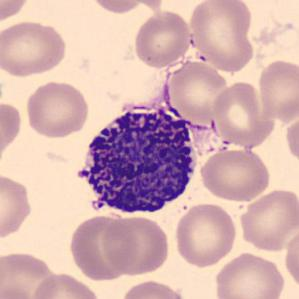Basophil: (70, 94, 206, 222)
RBC: (185, 0, 257, 73), (66, 212, 139, 282), (100, 213, 173, 278), (210, 79, 277, 149), (172, 201, 238, 269), (162, 58, 231, 123), (198, 147, 272, 203), (237, 186, 298, 253), (23, 79, 91, 139), (0, 19, 69, 78), (132, 8, 193, 70), (212, 250, 286, 299), (0, 248, 62, 298), (256, 57, 298, 122), (0, 170, 35, 243), (30, 270, 102, 299), (0, 98, 24, 165), (119, 278, 189, 299), (282, 226, 299, 294), (87, 0, 156, 15), (283, 114, 298, 168), (0, 0, 32, 25), (1, 282, 38, 299)
